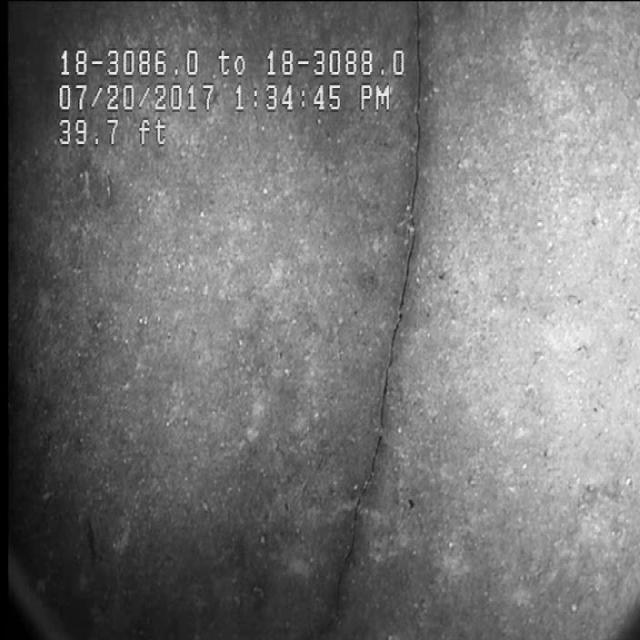Crack: (358, 114, 434, 574)
